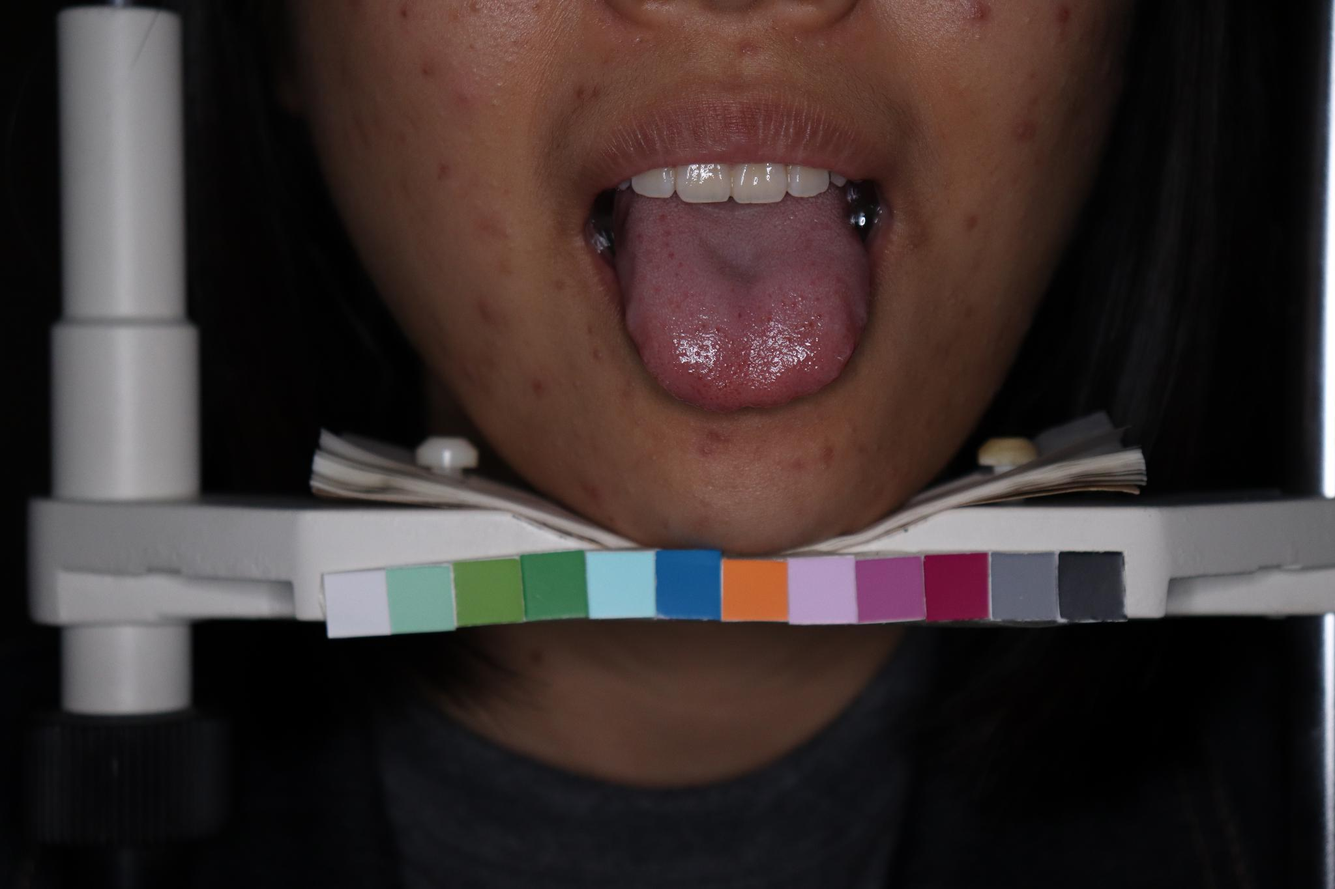baitaishe: (613, 171, 868, 410)
hongdianshe: (666, 249, 675, 259), (782, 335, 791, 344), (711, 326, 719, 334), (815, 312, 823, 320), (788, 300, 795, 309), (736, 311, 743, 318), (693, 350, 699, 357)
piweiao: (690, 227, 792, 293)
